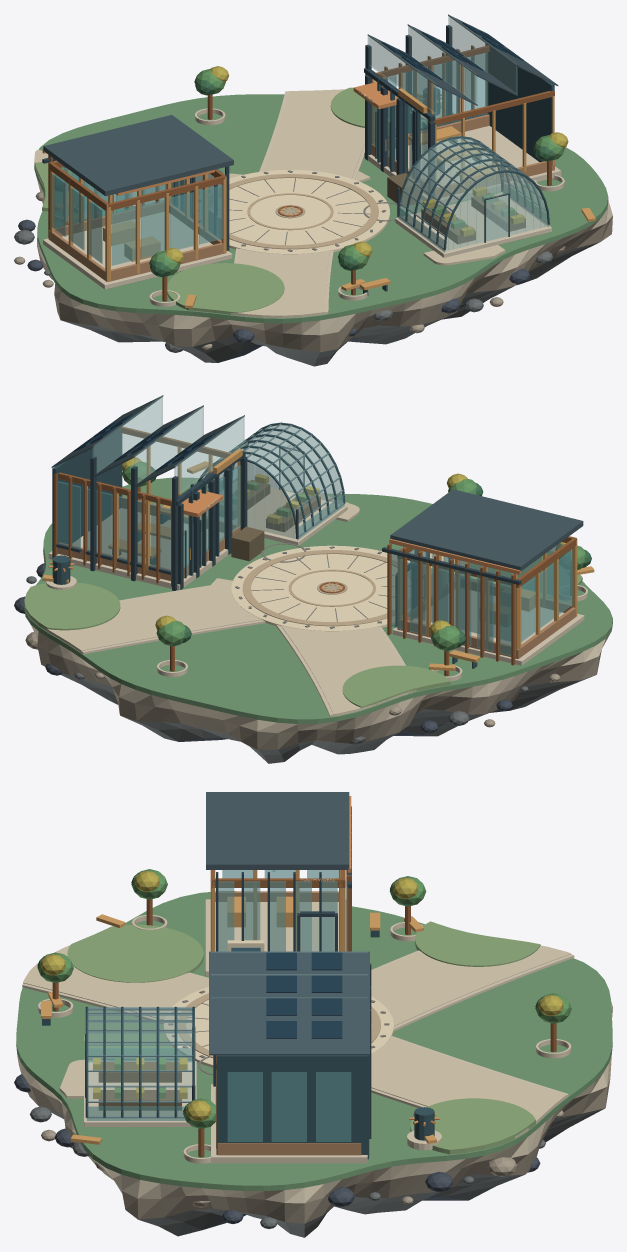
File: industry-youth-c.glb
3 renders of one model, top to bottom at view 1: azimuth 30°, elevation 25°; view 2: azimuth 150°, elevation 25°; view 3: azimuth 270°, elevation 25°, orthographic. The views are drawn at different scales.
Parts seen in each view (by area): view 1: 00_TerrainAndPlaza_grass.001, 00_TerrainAndPlaza_path.001, 00_TerrainAndPlaza_stone_bright.001, 02_Greenhouse_glass_light.001, 03_Exhibition_glass, 03_Exhibition_roof, 00_TerrainAndPlaza_cliff_light.001, 00_TerrainAndPlaza_stone_cream.001, 01_Workshop_glass_light.001, 01_Workshop_steel.001, 04_GardensAndFurniture_grass_light.001, 00_TerrainAndPlaza_cliff_mid.001 (+31 smaller); view 2: 00_TerrainAndPlaza_grass.001, 00_TerrainAndPlaza_path.001, 00_TerrainAndPlaza_stone_bright.001, 03_Exhibition_glass, 03_Exhibition_roof, 00_TerrainAndPlaza_cliff_light.001, 00_TerrainAndPlaza_stone_cream.001, 02_Greenhouse_glass_light.001, 01_Workshop_glass_light.001, 01_Workshop_glass.001, 01_Workshop_v3_metal, 01_Workshop_steel.001 (+30 smaller); view 3: 00_TerrainAndPlaza_grass.001, 00_TerrainAndPlaza_path.001, 01_Workshop_steel.001, 01_Workshop_roof.001, 03_Exhibition_roof, 04_GardensAndFurniture_grass_light.001, 00_TerrainAndPlaza_stone_cream.001, 00_TerrainAndPlaza_cliff_light.001, 01_Workshop_glass.001, 02_Greenhouse_glass_light.001, 03_Exhibition_glass, 00_TerrainAndPlaza_cliff_mid.001 (+26 smaller).
Boxes of the visible parts, x1,y1,x2,y2 form: 00_TerrainAndPlaza_grass.001: (34,94,608,323); 00_TerrainAndPlaza_path.001: (34,89,364,316); 00_TerrainAndPlaza_stone_bright.001: (198,170,389,254); 02_Greenhouse_glass_light.001: (400,138,548,251); 03_Exhibition_glass: (51,166,224,265); 03_Exhibition_roof: (43,115,233,196); 00_TerrainAndPlaza_cliff_light.001: (14,191,612,352); 00_TerrainAndPlaza_stone_cream.001: (34,91,612,335); 01_Workshop_glass_light.001: (367,15,517,167); 01_Workshop_steel.001: (375,46,554,183); 04_GardensAndFurniture_grass_light.001: (167,87,425,314); 00_TerrainAndPlaza_cliff_mid.001: (14,229,599,366); 00_TerrainAndPlaza_grass.001: (24,477,612,724); 00_TerrainAndPlaza_path.001: (44,546,556,714); 00_TerrainAndPlaza_stone_bright.001: (231,545,409,631); 03_Exhibition_glass: (391,543,572,656); 03_Exhibition_roof: (390,489,583,571); 00_TerrainAndPlaza_cliff_light.001: (25,550,601,749); 00_TerrainAndPlaza_stone_cream.001: (30,547,610,733); 02_Greenhouse_glass_light.001: (200,424,342,539); 01_Workshop_glass_light.001: (92,396,244,575); 01_Workshop_glass.001: (57,465,240,570); 01_Workshop_v3_metal: (56,453,247,590); 01_Workshop_steel.001: (52,428,245,578); 00_TerrainAndPlaza_grass.001: (16,891,612,1190); 00_TerrainAndPlaza_path.001: (23,945,571,1129); 01_Workshop_steel.001: (216,1055,368,1159); 01_Workshop_roof.001: (209,951,369,1055); 03_Exhibition_roof: (206,792,349,869); 04_GardensAndFurniture_grass_light.001: (67,924,535,1154); 00_TerrainAndPlaza_stone_cream.001: (16,950,612,1203); 00_TerrainAndPlaza_cliff_light.001: (19,1007,612,1223); 01_Workshop_glass.001: (227,1072,351,1141); 02_Greenhouse_glass_light.001: (86,1010,192,1118); 03_Exhibition_glass: (218,870,347,951); 00_TerrainAndPlaza_cliff_mid.001: (30,1106,604,1237).
Size of the model in its own units: 29.84 by 13.05 by 25.5.
